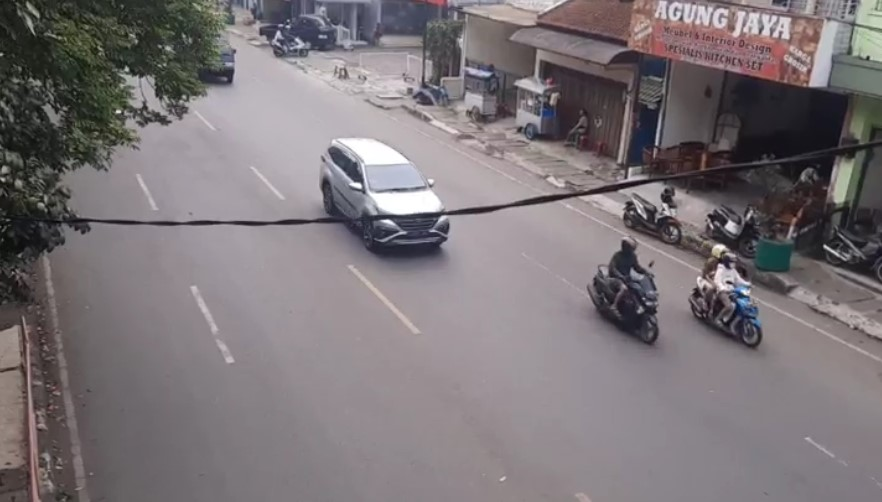mobil: (319, 138, 456, 254)
motor: (595, 228, 664, 347), (689, 247, 763, 351)
